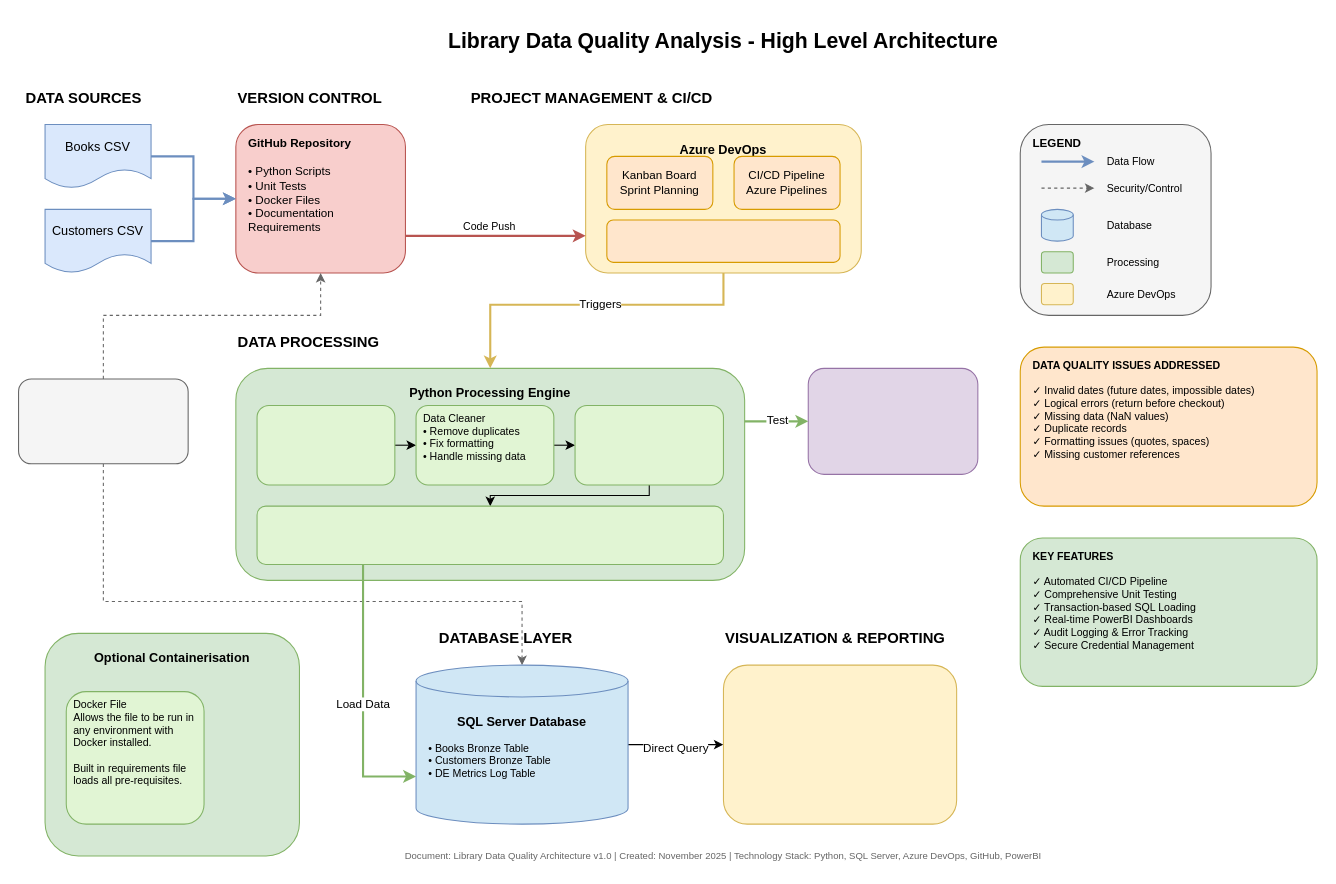
Some shapes in this 1336 by 884 pixel diagram are drawn without their labels. Each missing label, with the centre of its shape:
Automated Testing Code Quality Checks: point (723, 240)
Data Transformer • Standardise dates • Calculate metrics • Generate reports: point (648, 444)
Data Validator • Date validation • Reference checks • Format validation: point (325, 444)
Power BI Dashboard • Data Quality Metrics: point (839, 744)
Security • Access Control • Encryption • Azure Key Vault • SSH Keys: point (102, 421)
SQL Loader • Database connection • Batch insert • Transaction management: point (489, 534)
Unit Testing (pytest) 80%+ Code Coverage: point (892, 420)
